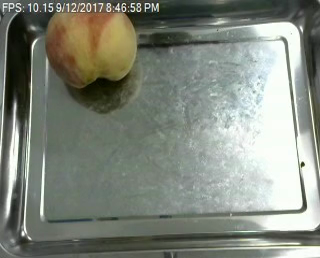Peach: (43, 0, 138, 88)
